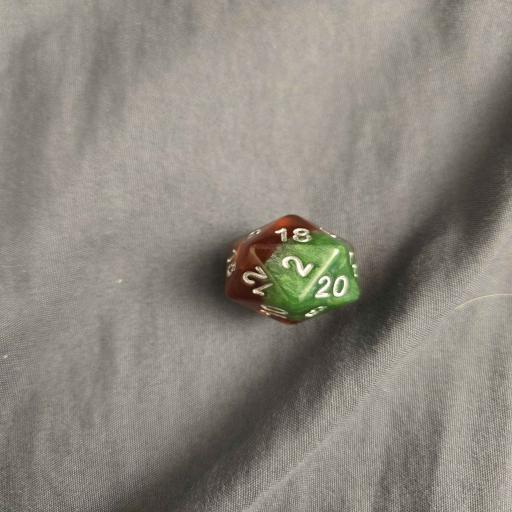twenty sided dice: (225, 214, 360, 324)
